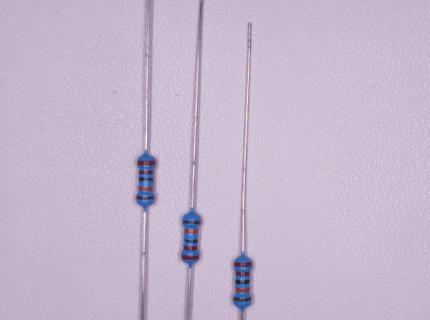Black band: (235, 279, 250, 285), (139, 177, 154, 182), (184, 239, 198, 243)
Brown band: (233, 296, 252, 302), (182, 219, 201, 225), (136, 195, 155, 200)
Orange band: (235, 287, 250, 293), (184, 228, 198, 234), (139, 186, 153, 191)
Red band: (233, 261, 253, 268), (137, 160, 156, 166), (181, 254, 199, 260), (183, 245, 198, 251), (235, 271, 251, 276), (139, 170, 154, 175)
